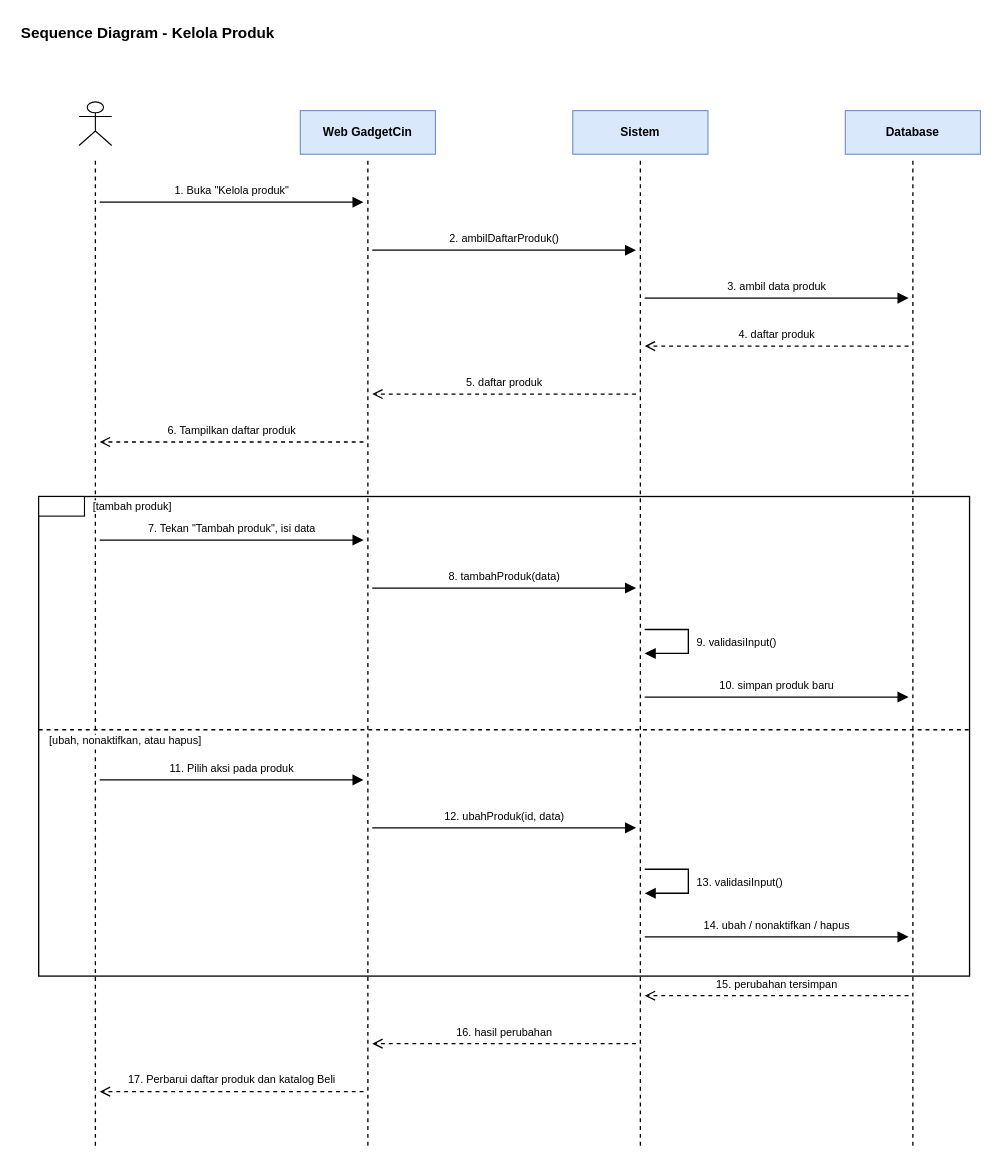
This 1007x1166 diagram has some shape labels left out. Each missing label, with the box of its shape:
Admin: (78, 101, 112, 146)
alt: (38, 495, 84, 516)
